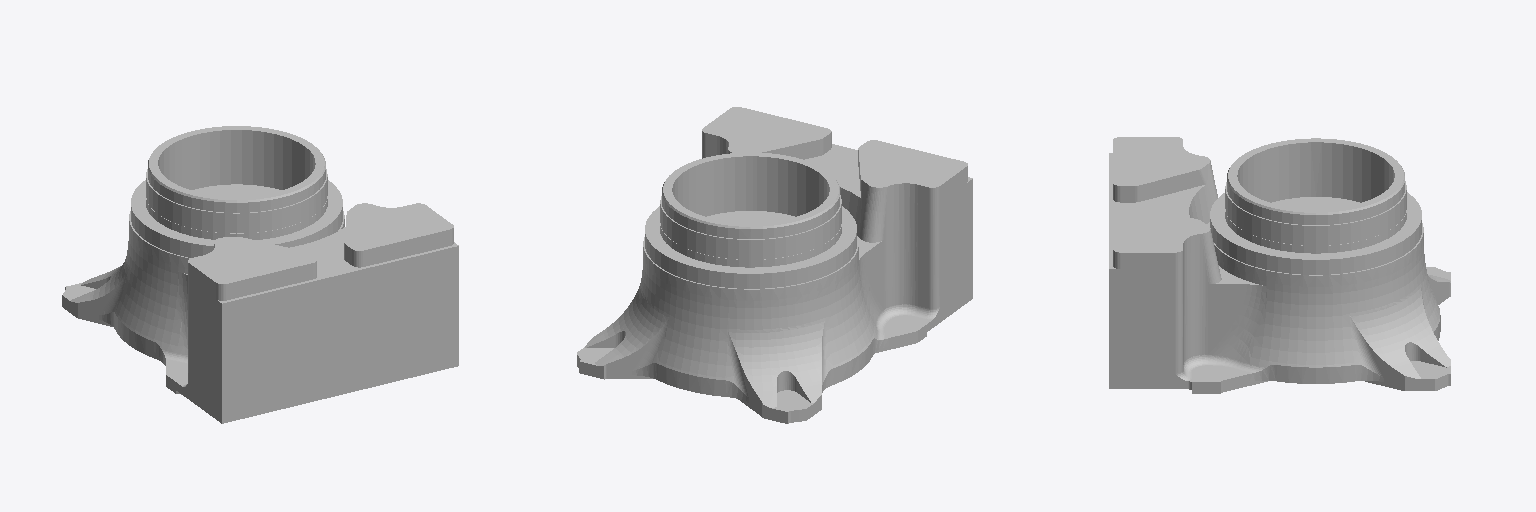
The picture shows the model from 3 angles: view 1: azimuth 30°, elevation 25°; view 2: azimuth 150°, elevation 25°; view 3: azimuth 270°, elevation 25°; orthographic projection.
Parts seen in each view (by area): view 1: transform2; view 2: transform2; view 3: transform2.
Part boxes in pixels (x1,y1,x2,y2): transform2: (62, 126, 458, 423); transform2: (577, 107, 972, 423); transform2: (1109, 137, 1450, 393).
Bounding box in the file's own units: 32.78 × 20.92 × 40.65.